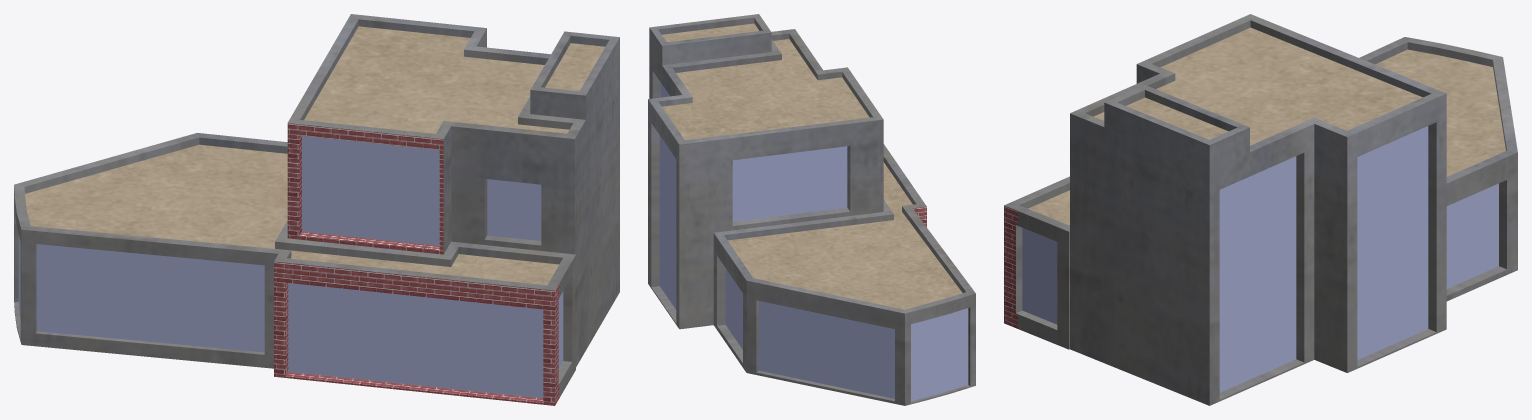
3 renders of one model, left to right at view 1: azimuth 30°, elevation 25°; view 2: azimuth 150°, elevation 25°; view 3: azimuth 270°, elevation 25°, orthographic. The views are drawn at different scales.
Parts seen in each view (by area): view 1: Cube.021; view 2: Cube.021; view 3: Cube.021.
Boxes of the visible parts, x1,y1,x2,y2 form: Cube.021: (14,14,619,405); Cube.021: (648,14,975,405); Cube.021: (1004,14,1517,405).
Size of the model in its own units: 24.46 by 11.84 by 21.15.
Materials: 4 (3 with a texture image).
